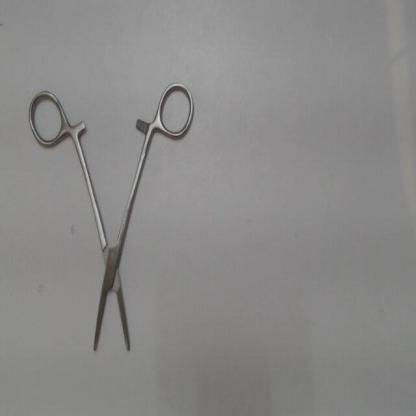Mayo Needle Holder: (23, 79, 200, 359)
